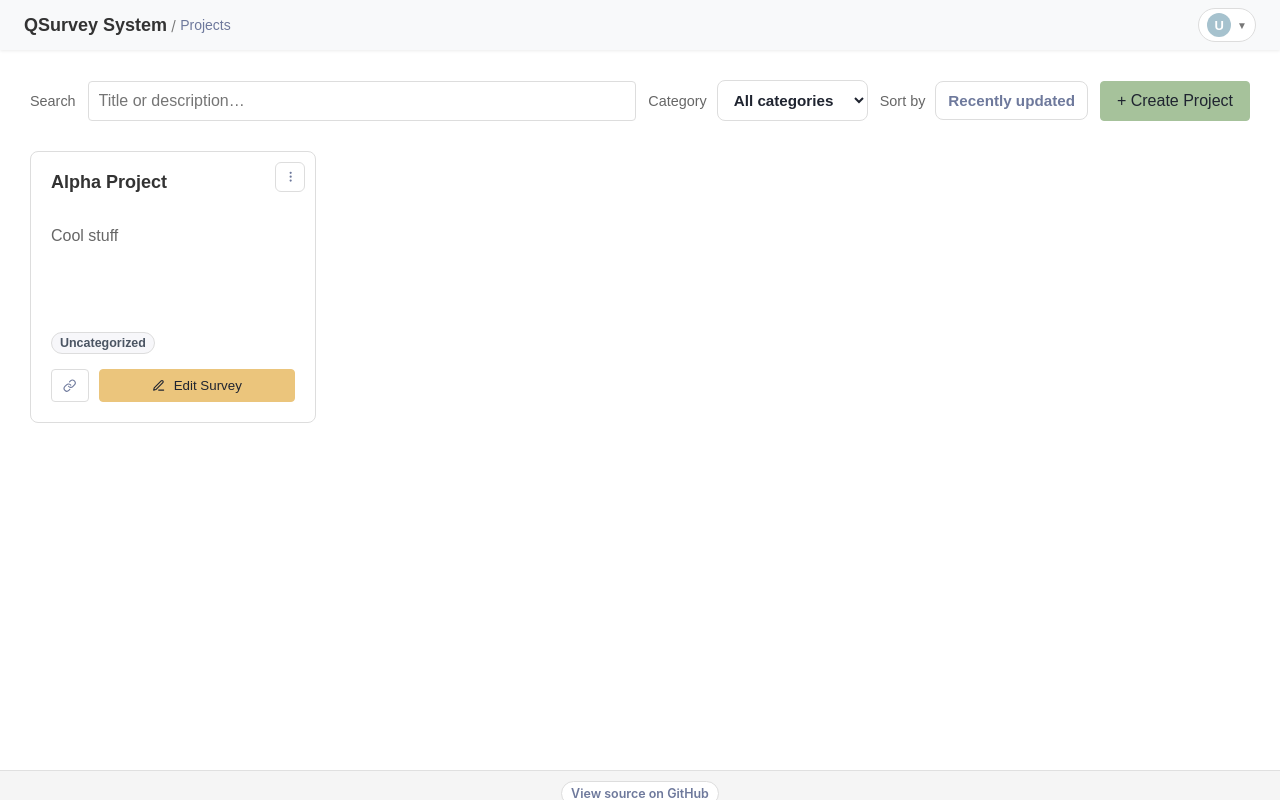
DesignerPage projects search/sort › keeps sort and project action menus mutually exclusive
Check: the heading "Alpha Project" is shown, box [51,172,167,192]
Click the button "Recently updated".
click(1012, 100)  # box [935,81,1088,120]
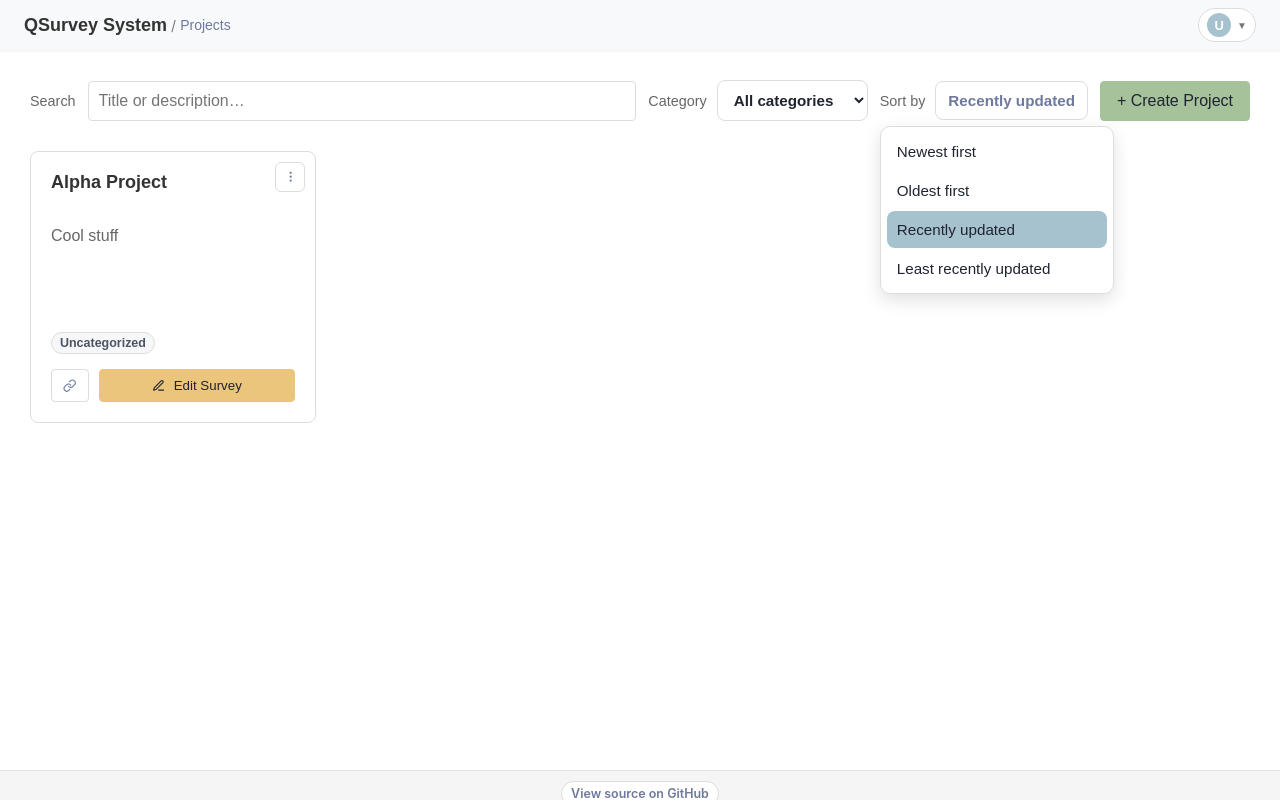
Check: the menu item "Newest first" is shown, box [887,133,1107,170]
Click the button named "Project actions for Alpha Project".
click(290, 177)  # box [275,162,305,192]
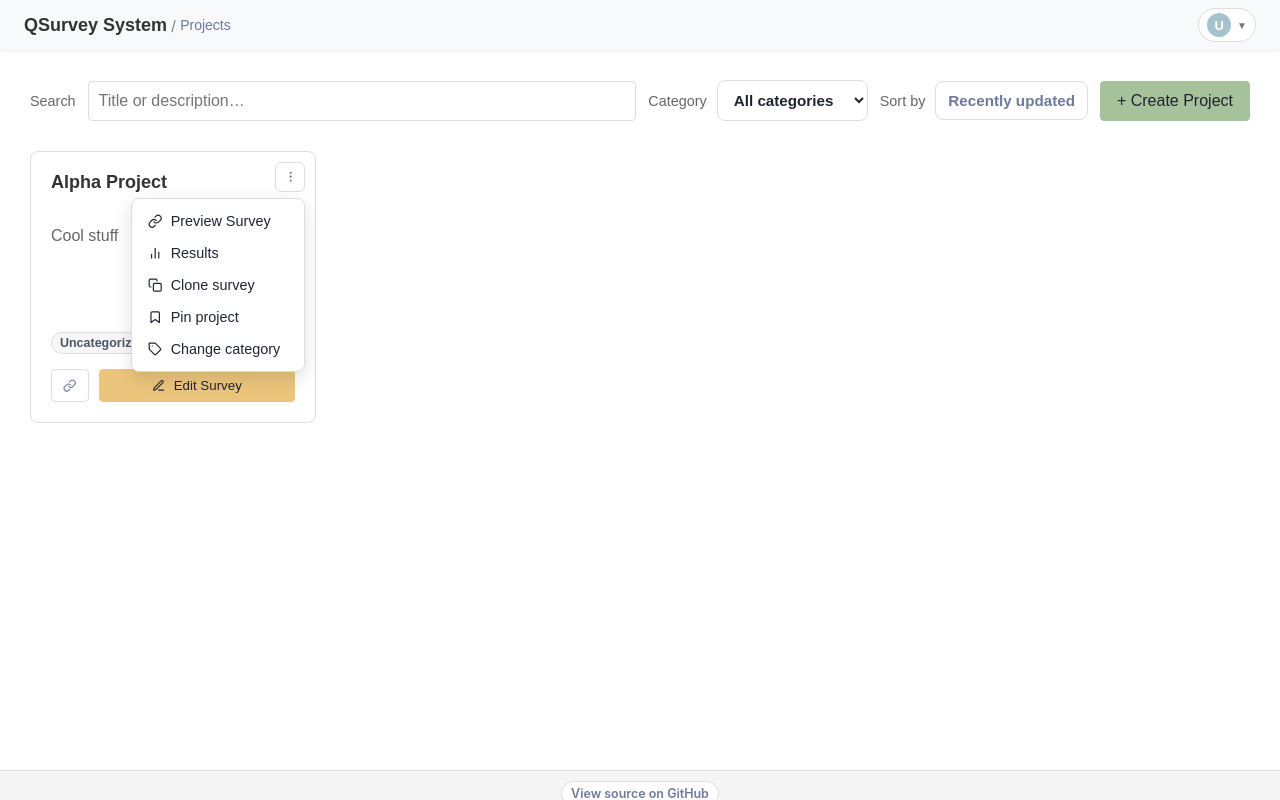
Check: the menu item "Newest first" is gone
Check: the menu item "Clone survey" is shown, box [138,269,298,301]
Click the button "Recently updated".
click(1012, 100)  # box [935,81,1088,120]
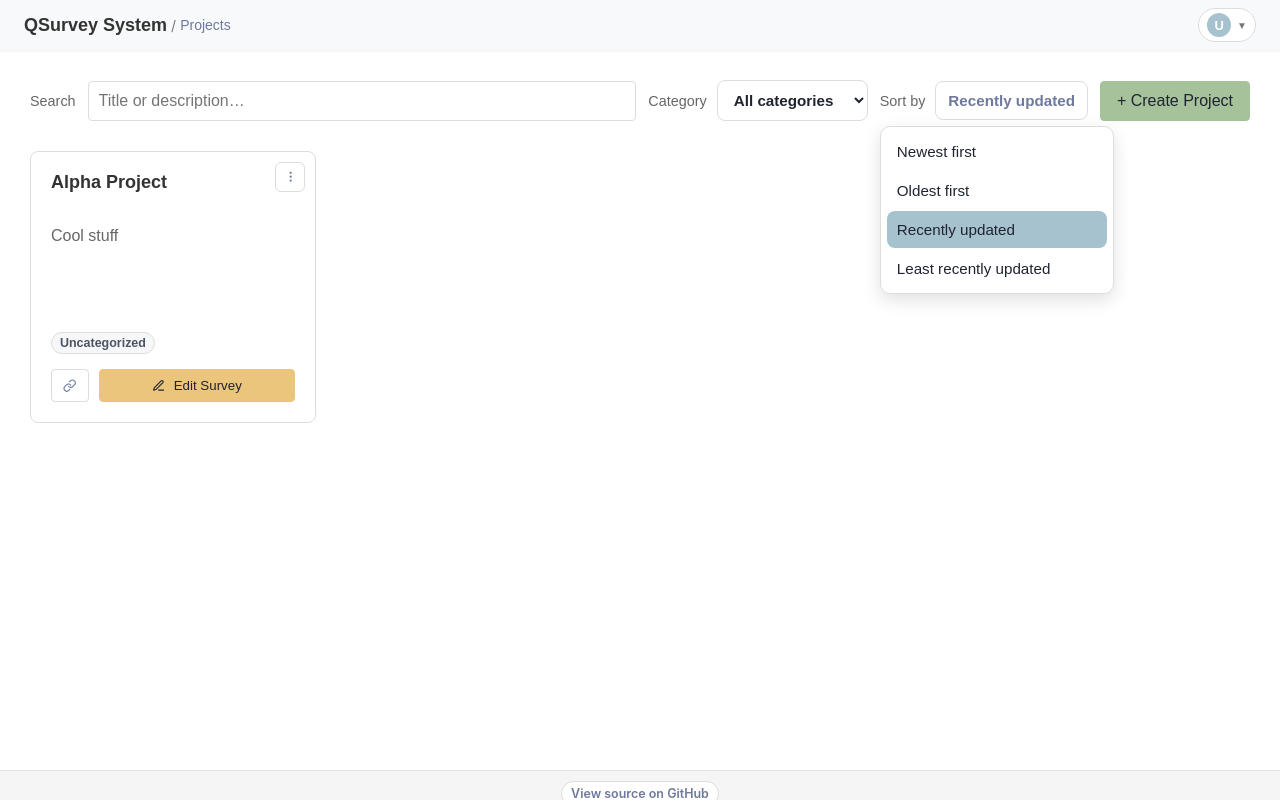
Check: the menu item "Newest first" is shown, box [887,133,1107,170]
Check: the menu item "Clone survey" is gone
